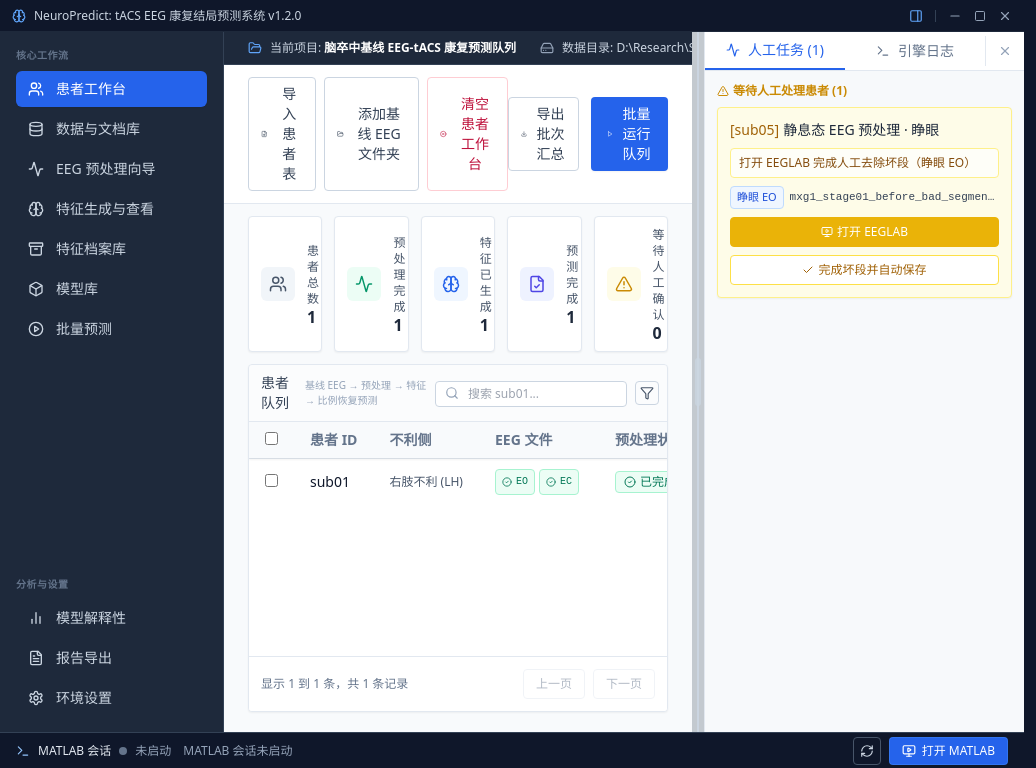
Gemini patient workbench shell › does not run MATLAB after completing only one split manual preprocessing file
Expected: the text "静息态 EEG 预处理 · 睁眼" is shown, [783, 120, 939, 139]
Click the button "完成坏段并自动保存".
click(864, 270)  # box [730, 254, 999, 284]
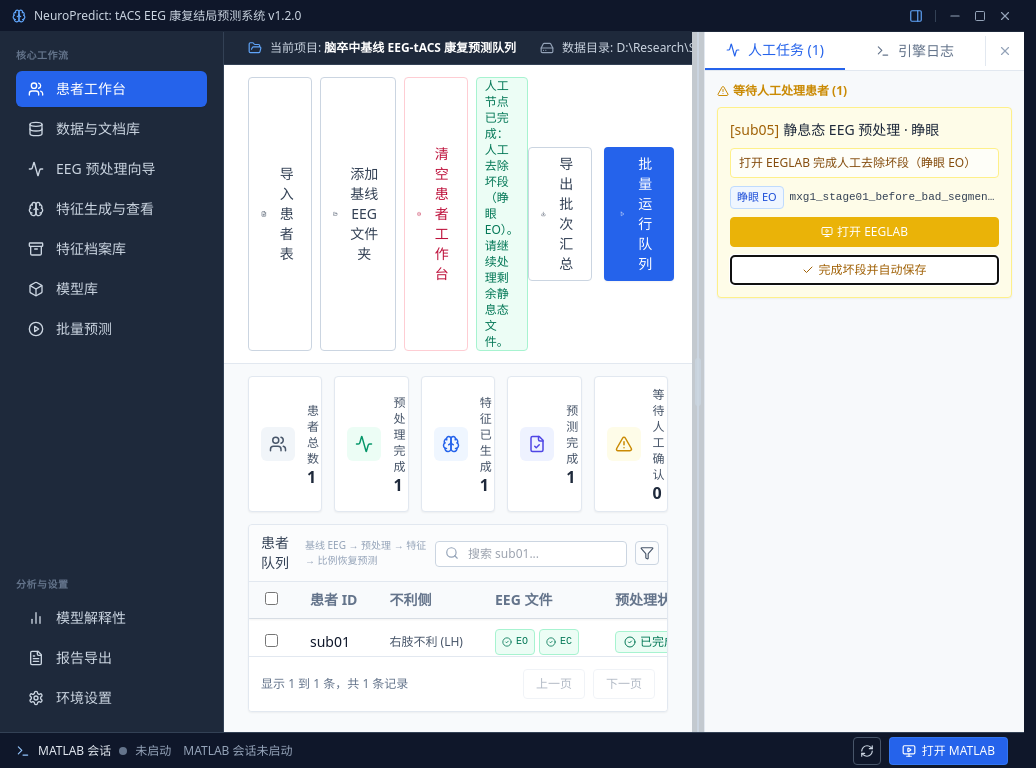
Now the text "人工节点已完成：人工去除坏段（睁眼 EO）。请继续处理剩余静息态文件。" is shown, box [476, 77, 528, 351]
